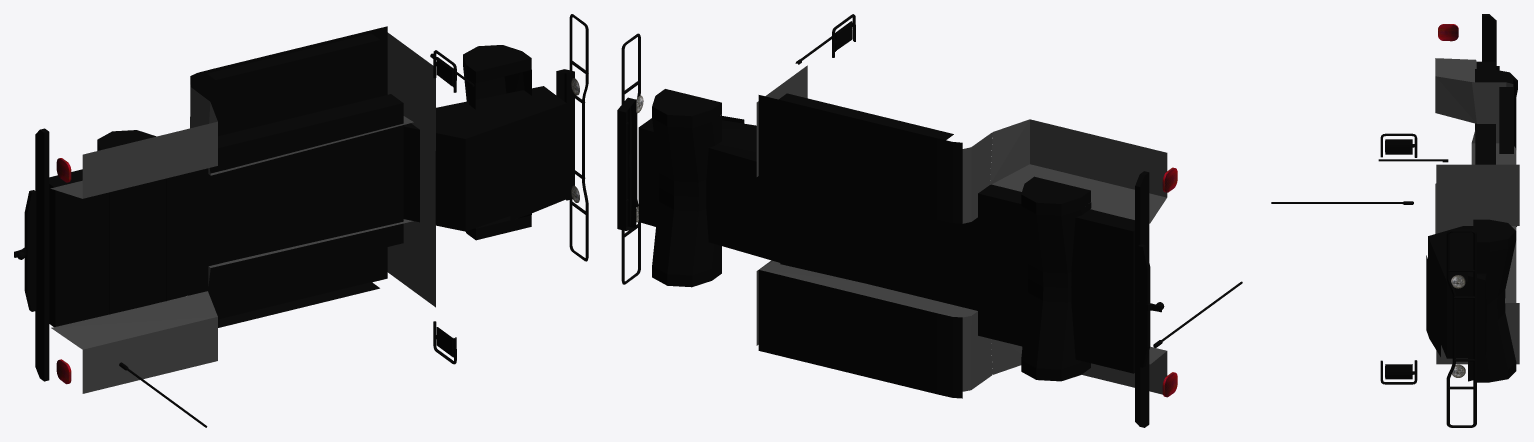
File: details.obj
3 views of the same model, side by side, from view 1: azimuth 30°, elevation 25°; view 2: azimuth 150°, elevation 25°; view 3: azimuth 270°, elevation 25° (orthographic). The views are drawn at different scales.
Visible parts, largest first — view 1: Material__3, Material__15, default, 1_-_Default; view 2: Material__3, default, Material__15, 1_-_Default; view 3: Material__3, Material__15, 1_-_Default.
Part boxes in pixels (x1,y1,x2,y2): Material__3: [14, 14, 588, 427]; Material__15: [50, 32, 435, 393]; default: [190, 26, 387, 319]; 1_-_Default: [56, 78, 579, 384]; Material__3: [617, 14, 1242, 427]; default: [758, 95, 962, 398]; Material__15: [756, 65, 1167, 394]; 1_-_Default: [636, 95, 1177, 397]; Material__3: [1271, 14, 1517, 427]; Material__15: [1435, 58, 1519, 364]; 1_-_Default: [1438, 24, 1465, 377].
Bounding box in the file's own units: 4.94 × 2.61 × 2.34.
3 materials, 1 textured.
